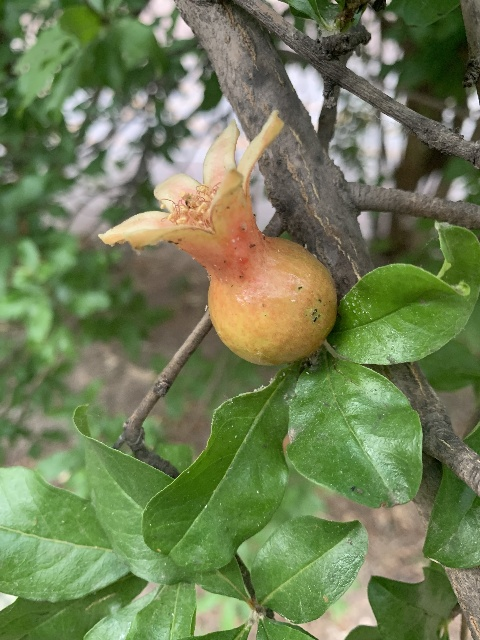early-fruit: (96, 112, 334, 372)
